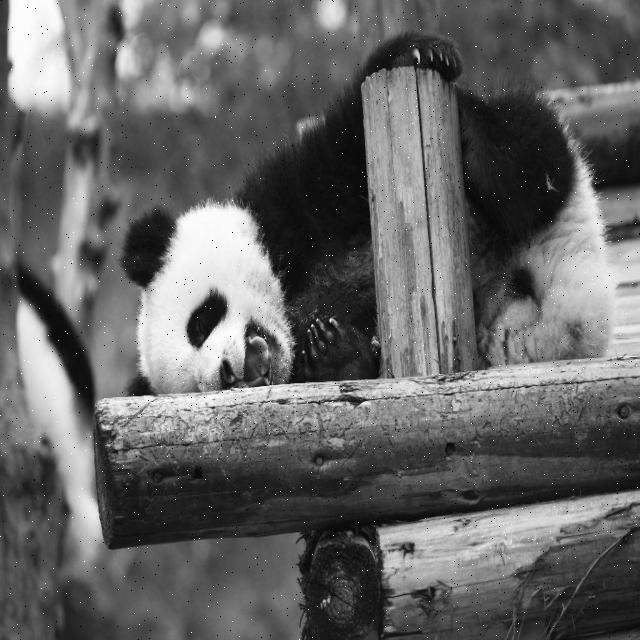panda: (124, 31, 619, 397)
